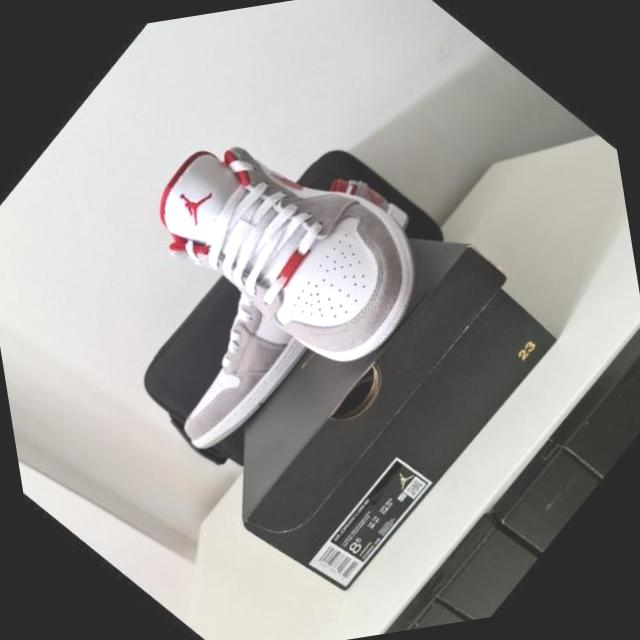nike_original_jordan: (116, 63, 475, 428)
